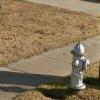a fire hydrant: (67, 40, 92, 93)
